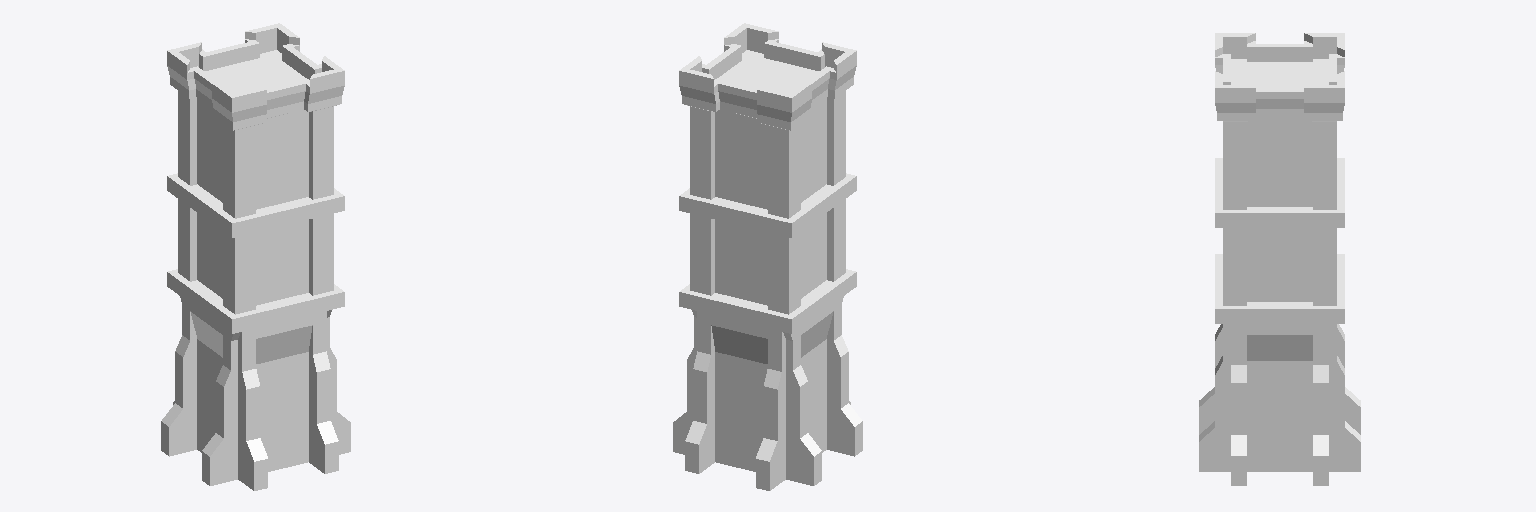
File: ProBuildTower.obj
The picture shows the model from 3 angles: view 1: azimuth 30°, elevation 25°; view 2: azimuth 150°, elevation 25°; view 3: azimuth 270°, elevation 25°; orthographic projection.
Parts seen in each view (by area): view 1: ProBuildTower; view 2: ProBuildTower; view 3: ProBuildTower.
Boxes of the visible parts, x1=… form: ProBuildTower: x1=161, y1=23, x2=350, y2=490; ProBuildTower: x1=673, y1=23, x2=862, y2=490; ProBuildTower: x1=1199, y1=33, x2=1360, y2=485.
Size of the model in its own units: 10 by 26.5 by 10.